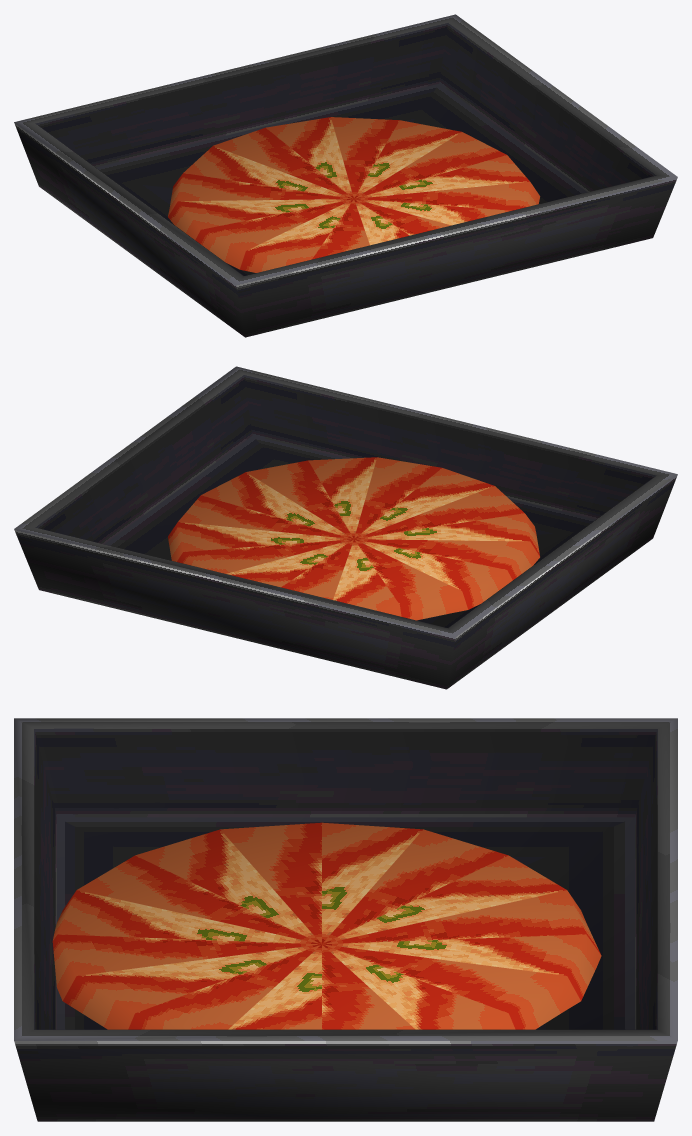
The picture shows the model from 3 angles, top to bottom: view 1: azimuth 30°, elevation 25°; view 2: azimuth 150°, elevation 25°; view 3: azimuth 270°, elevation 25°; orthographic projection. The views are drawn at different scales.
Visible parts, largest first — view 1: piza; view 2: piza; view 3: piza.
Boxes of the visible parts, bbox=[...] form: piza: bbox=[14, 14, 677, 337]; piza: bbox=[14, 366, 677, 689]; piza: bbox=[14, 718, 677, 1121].
Size of the model in its own units: 1.09 by 0.1482 by 0.9524.
2 materials, 2 textured.
